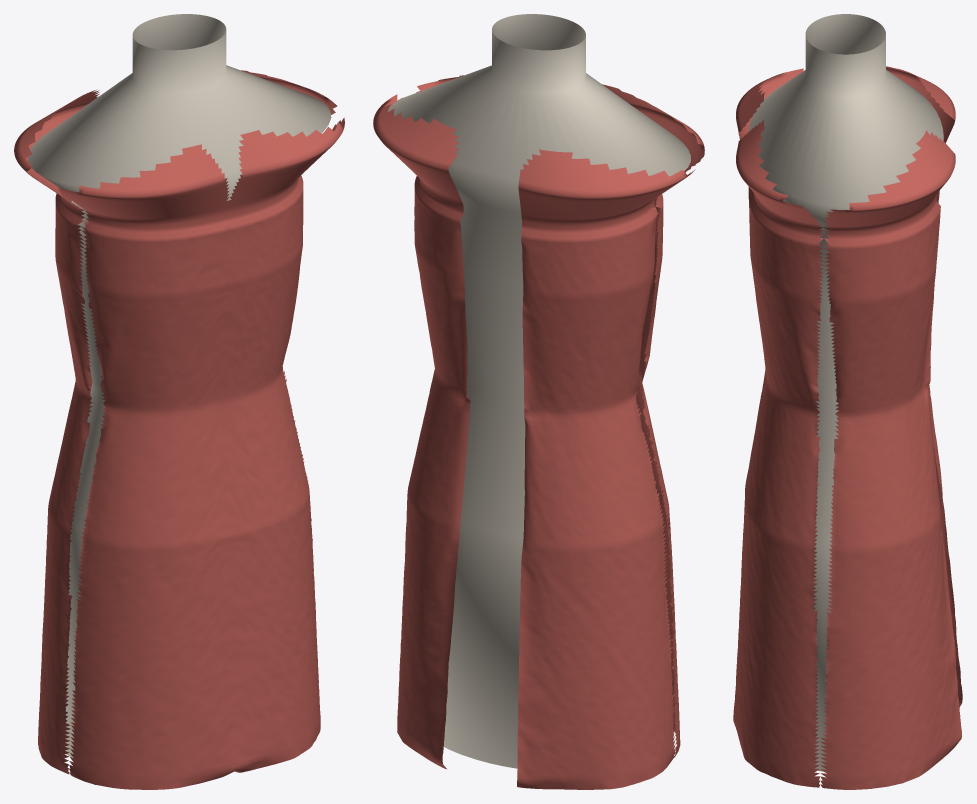
File: vestido-cosido.glb
3 views of the same model, side by side, from view 1: azimuth 30°, elevation 25°; view 2: azimuth 150°, elevation 25°; view 3: azimuth 270°, elevation 25° (orthographic).
Parts seen in each view (by area): view 1: vestido_cosido, maniqui; view 2: vestido_cosido, maniqui; view 3: vestido_cosido, maniqui.
Boxes of the visible parts, x1=… form: vestido_cosido: x1=14, y1=70, x2=344, y2=789; maniqui: x1=28, y1=14, x2=330, y2=757; vestido_cosido: x1=373, y1=75, x2=704, y2=789; maniqui: x1=388, y1=14, x2=690, y2=768; vestido_cosido: x1=733, y1=66, x2=962, y2=789; maniqui: x1=748, y1=14, x2=943, y2=771.
Size of the model in its own units: 0.4434 by 0.9896 by 0.2959.
